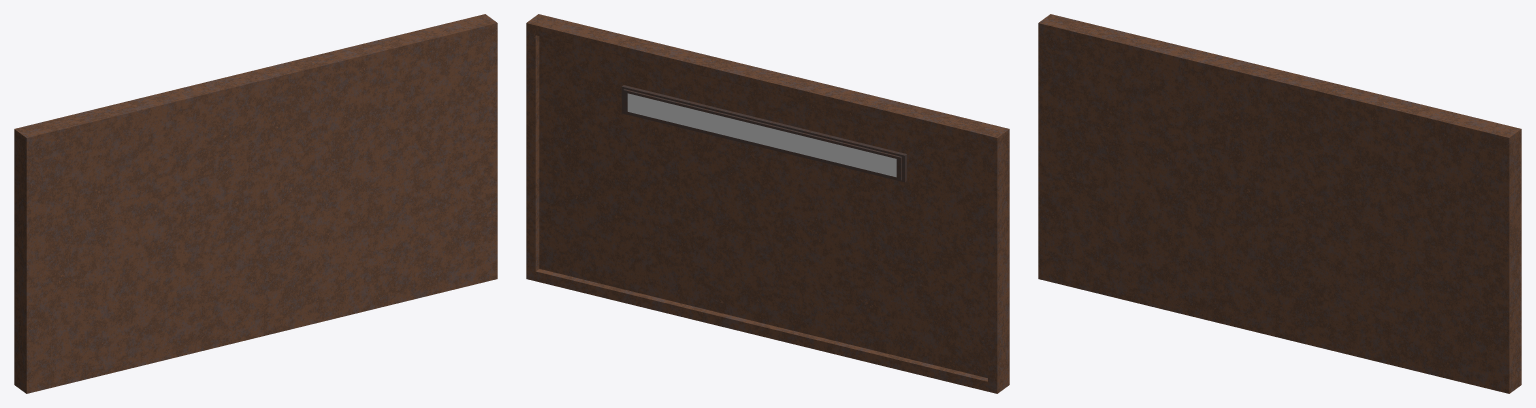
File: Generator.fbx
3 views of the same model, side by side, from view 1: azimuth 30°, elevation 25°; view 2: azimuth 150°, elevation 25°; view 3: azimuth 330°, elevation 25° (orthographic).
Visible parts, largest first — view 1: Baked Generator; view 2: Baked Generator, Baked Strip, Baked Backboard; view 3: Baked Generator.
Part boxes in pixels (x1,y1,x2,y2): Baked Generator: [14, 14, 497, 393]; Baked Generator: [526, 14, 1009, 393]; Baked Strip: [627, 93, 896, 177]; Baked Backboard: [621, 85, 906, 182]; Baked Generator: [1038, 14, 1521, 393].
Bounding box in the file's own units: 269 × 139 × 12.24.
Materials: 2 (2 with a texture image).
